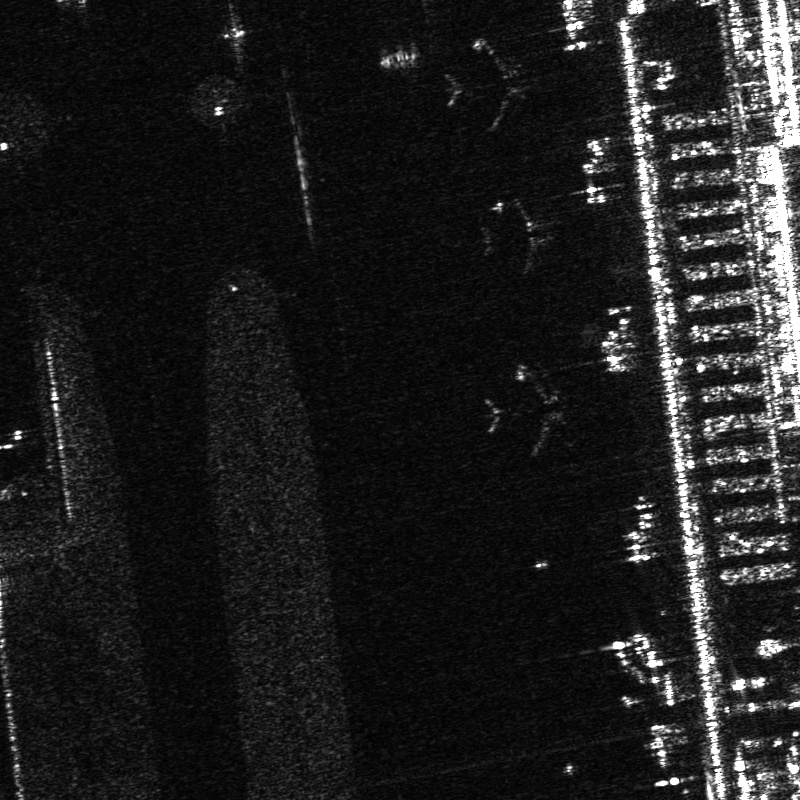Boeing787: (444, 38, 550, 131), (485, 364, 573, 448), (478, 197, 563, 280)
